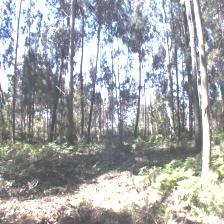trunktrack_idkeyframe: (199, 39, 211, 170)
